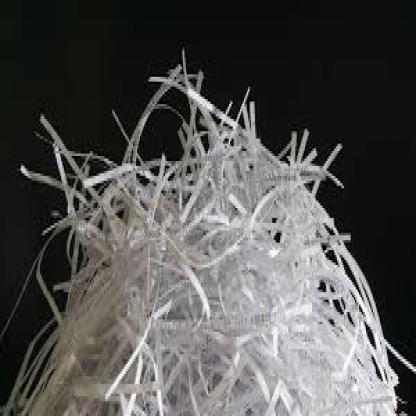paper: (0, 42, 415, 414)
